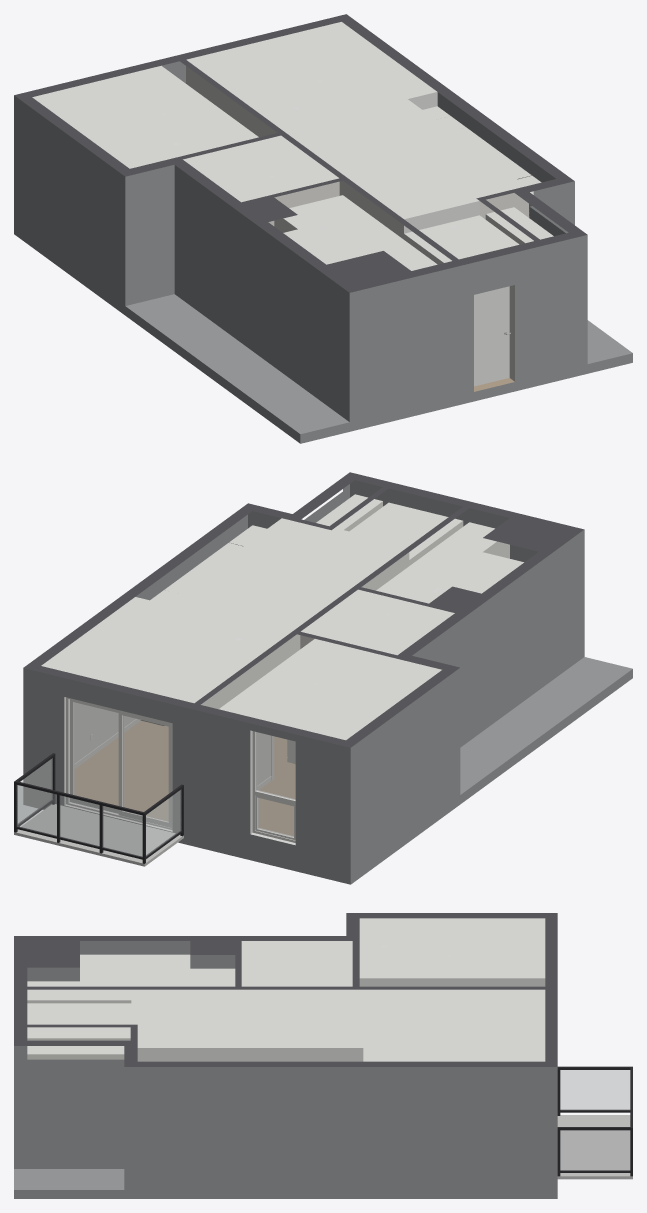
File: apartment.glb
3 renders of one model, top to bottom at view 1: azimuth 30°, elevation 25°; view 2: azimuth 150°, elevation 25°; view 3: azimuth 270°, elevation 25°, orthographic. The views are drawn at different scales.
Visible parts, largest first — view 1: Unlit, Shell, Fixtures; view 2: Unlit, Shell, Glass, Fixtures; view 3: Unlit, Shell, Fixtures, Glass.
Boxes of the visible parts, x1,y1,x2,y2 form: Unlit: (14, 14, 632, 443); Shell: (32, 22, 553, 391); Fixtures: (161, 80, 531, 386); Unlit: (23, 472, 632, 884); Shell: (41, 494, 523, 845); Glass: (17, 702, 295, 856); Fixtures: (14, 542, 445, 866); Unlit: (14, 913, 557, 1198); Shell: (27, 918, 545, 1061); Fixtures: (118, 945, 632, 1179); Glass: (560, 1070, 629, 1170).
Size of the model in its own units: 7.38 by 2.95 by 12.53.
